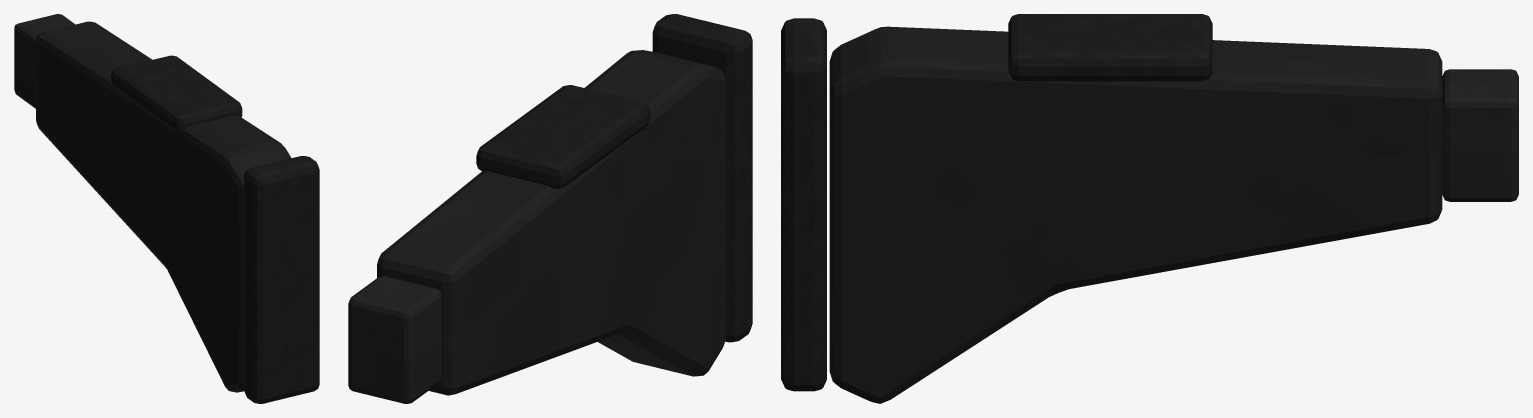
File: stock_heavy.glb
The picture shows the model from 3 angles, left to right: view 1: azimuth 30°, elevation 25°; view 2: azimuth 150°, elevation 25°; view 3: azimuth 270°, elevation 25°; orthographic projection. The views are drawn at different scales.
Parts seen in each view (by area): view 1: body, pad, cheek, hinge; view 2: body, pad, cheek, hinge; view 3: body, pad, cheek, hinge.
Part boxes in pixels (<box>): body: <box>36,21,291,392</box>; pad: <box>244,156,319,403</box>; cheek: <box>111,55,242,133</box>; hinge: <box>14,14,75,108</box>; body: <box>377,50,726,395</box>; pad: <box>652,14,752,342</box>; cheek: <box>476,85,650,188</box>; hinge: <box>348,276,441,403</box>; body: <box>829,26,1442,403</box>; pad: <box>781,18,826,391</box>; cheek: <box>1008,14,1212,81</box>; hinge: <box>1442,69,1518,201</box>.
Size of the model in its own units: 0.044 by 0.1526 by 0.289.
Materials: 3 (3 with a texture image).
